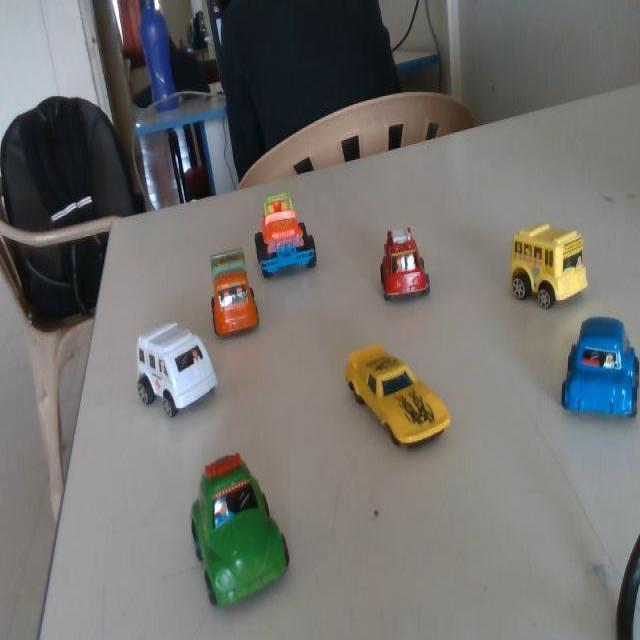car: (142, 441, 314, 639), (116, 292, 240, 446), (330, 342, 455, 458), (561, 321, 639, 423), (254, 182, 329, 278), (500, 226, 579, 316), (199, 237, 262, 347), (369, 225, 431, 315)
